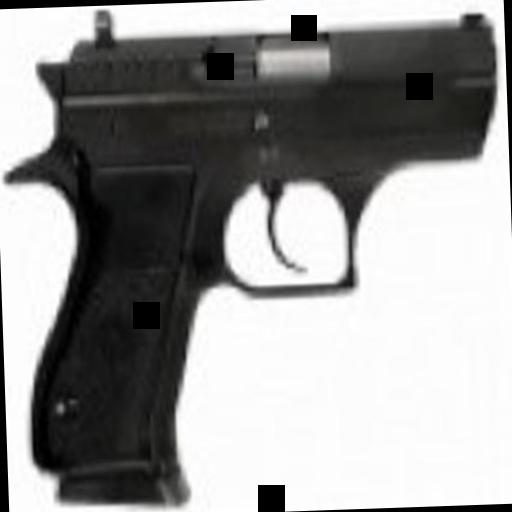Handgun: (10, 2, 510, 502)
